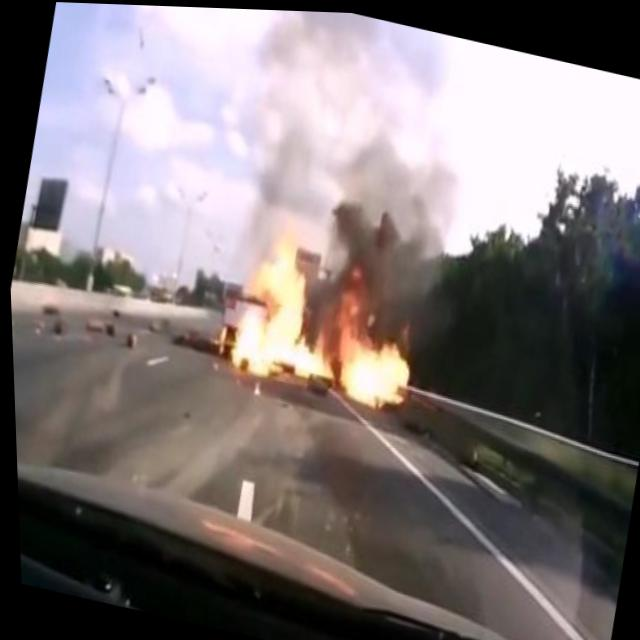fire: (201, 203, 439, 430)
